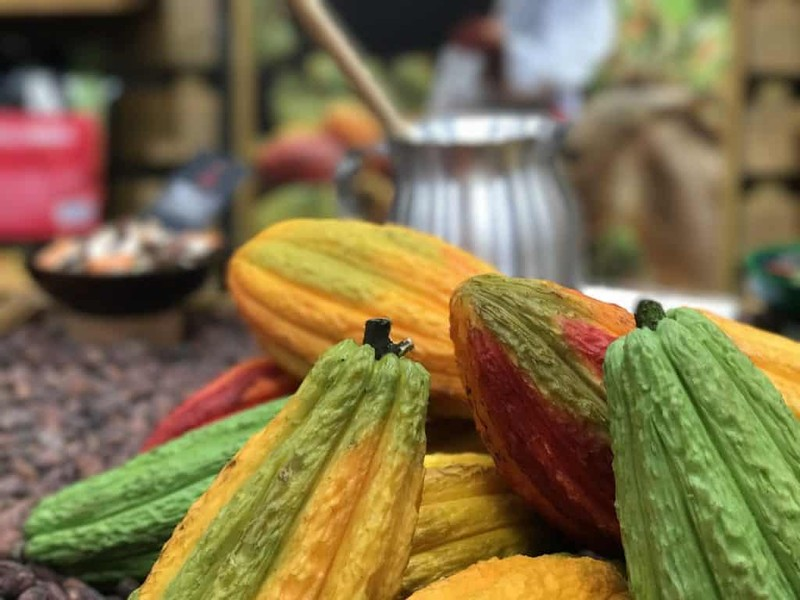Cacaopod: (125, 315, 431, 600)
